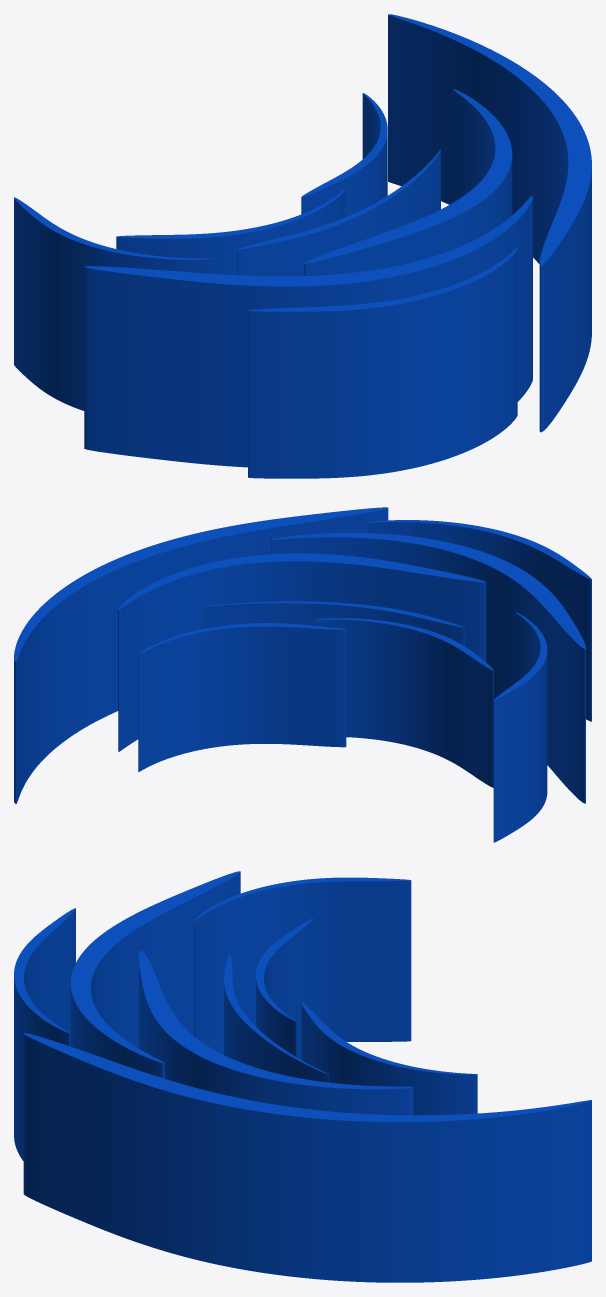
The model's file is REM.dae.
3 renders of one model, top to bottom at view 1: azimuth 30°, elevation 25°; view 2: azimuth 150°, elevation 25°; view 3: azimuth 270°, elevation 25°, orthographic. The views are drawn at different scales.
Visible parts, largest first — view 1: Cylinder; view 2: Cylinder; view 3: Cylinder.
Boxes of the visible parts, box(x1,y1,x2,y2) form: Cylinder: box(14, 14, 591, 478); Cylinder: box(14, 507, 591, 842); Cylinder: box(14, 871, 591, 1282).
Size of the model in its own units: 2.54 by 2.48 by 0.8278.
